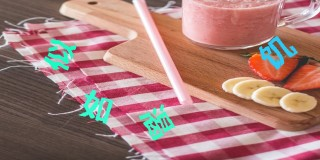似: (43, 38, 77, 71)
如: (80, 89, 112, 124)
渴: (138, 103, 175, 141)
饥: (258, 36, 297, 68)
